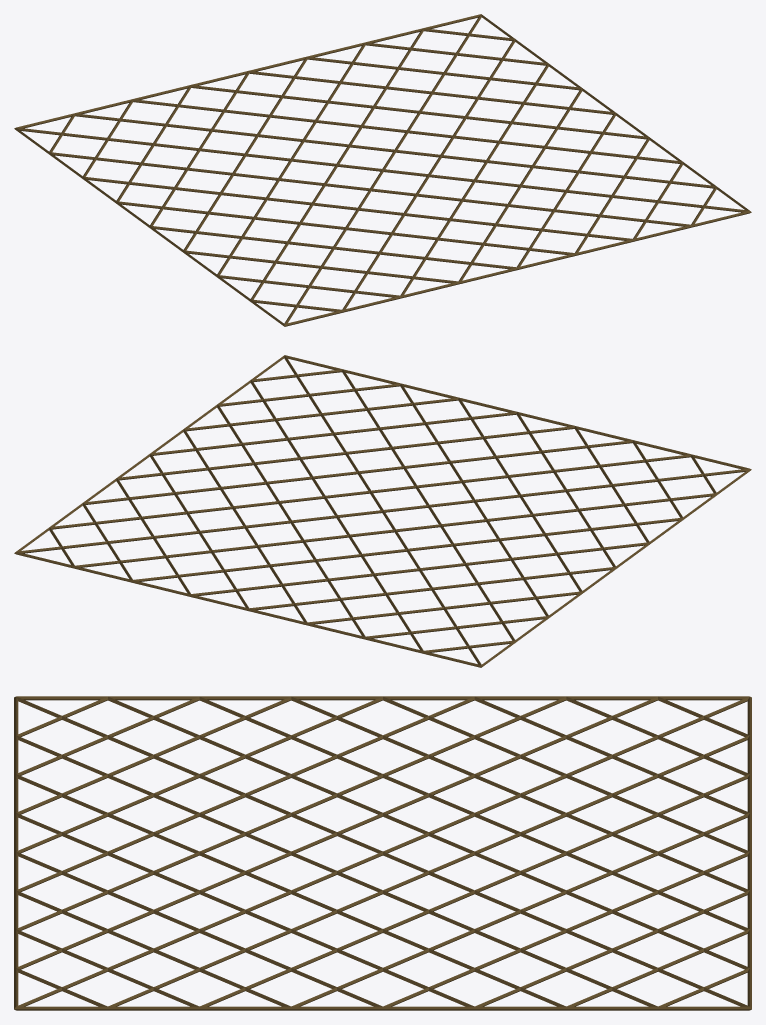
Rendered from Rete.fbx.
3 views of the same model, one above another, from view 1: azimuth 30°, elevation 25°; view 2: azimuth 150°, elevation 25°; view 3: azimuth 270°, elevation 25° (orthographic). The views are drawn at different scales.
Parts seen in each view (by area): view 1: Rete; view 2: Rete; view 3: Rete.
Part boxes in pixels (box(x1,y1,x2,y2)): Rete: box(14, 14, 751, 326); Rete: box(14, 355, 751, 667); Rete: box(14, 696, 751, 1010).
Bounding box in the file's own units: 402 × 2.4 × 402.
